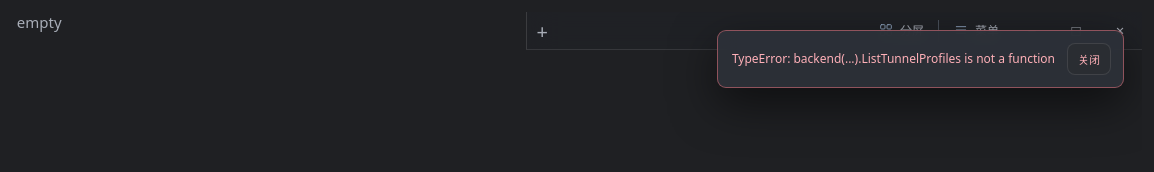
Test: App UI overlays › closes the server picker on an outside pointerdown
Click the button with class "topbar-add" at (542, 32), box [527,15,557,49]
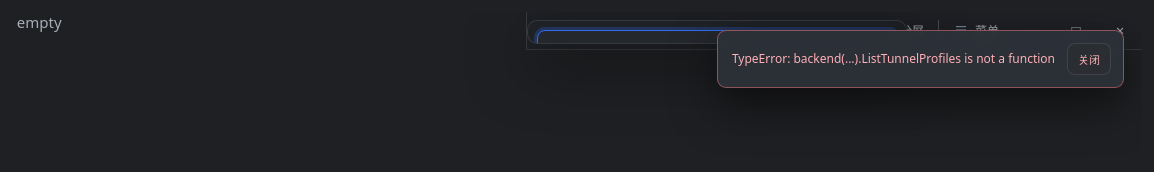
Check: the element with class "server-picker" is shown, box [527,20,907,44]
Press the mouse on the text with class "terminal-empty" at (39, 22), box [17,12,62,32]
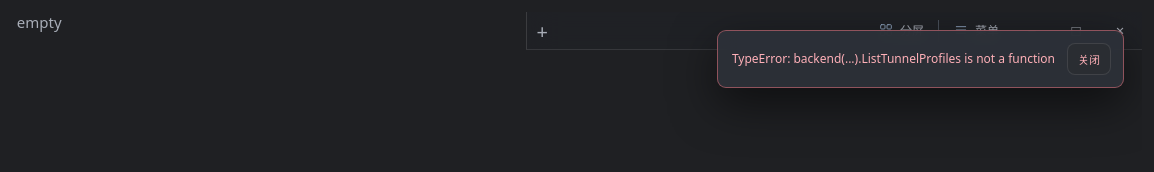
Check: the element with class "server-picker" is gone
